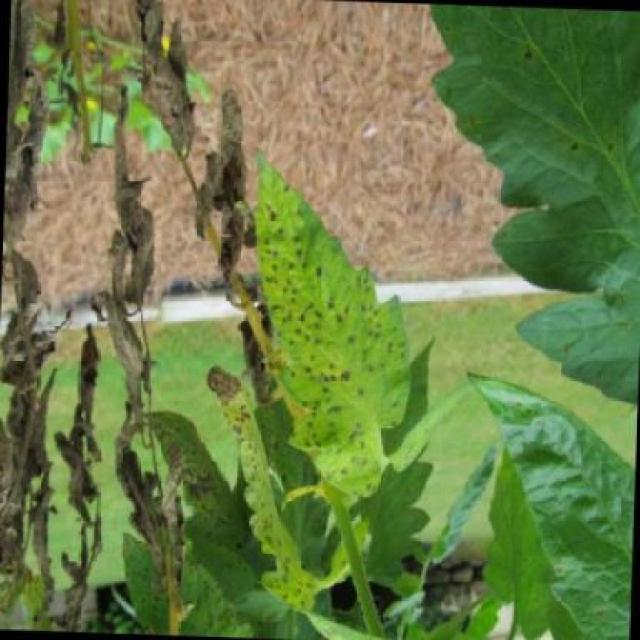Tomato leaf bacterial spot: (246, 151, 406, 489)
